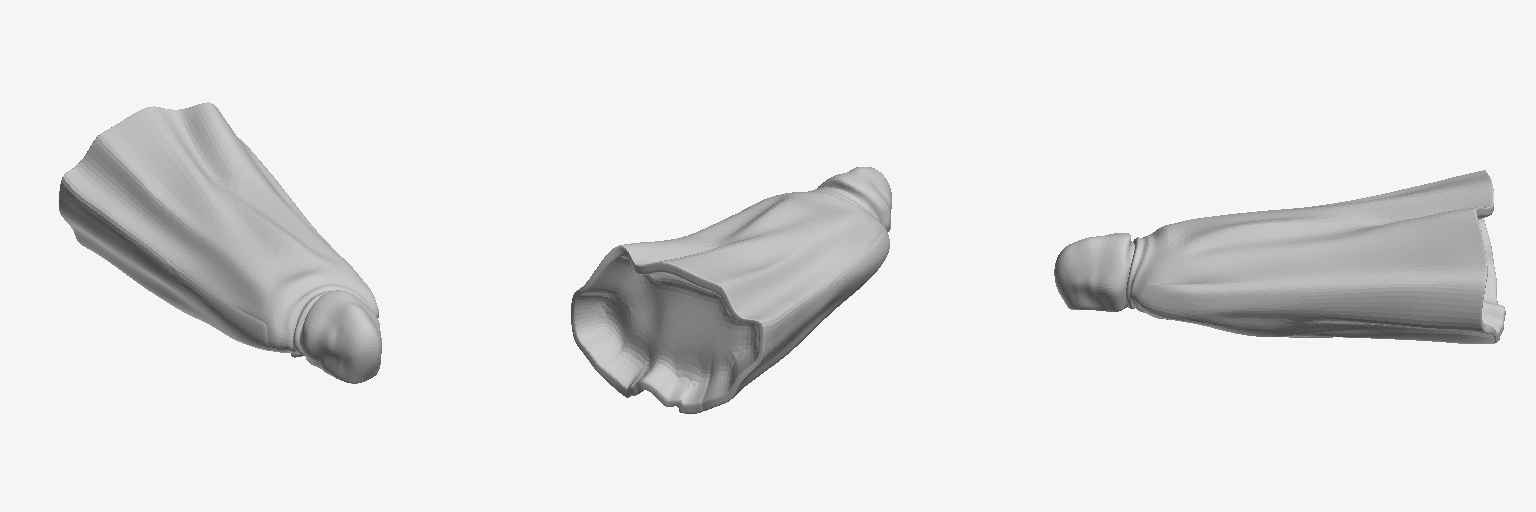
File: cape.obj
3 views of the same model, side by side, from view 1: azimuth 30°, elevation 25°; view 2: azimuth 150°, elevation 25°; view 3: azimuth 270°, elevation 25° (orthographic).
Parts seen in each view (by area): view 1: Black_Cape; view 2: Black_Cape; view 3: Black_Cape.
Boxes of the visible parts, <box> form: Black_Cape: <box>59,102,381,383</box>; Black_Cape: <box>571,167,891,413</box>; Black_Cape: <box>1054,170,1505,343</box>.
Bounding box in the file's own units: 77.2 × 54.94 × 156.